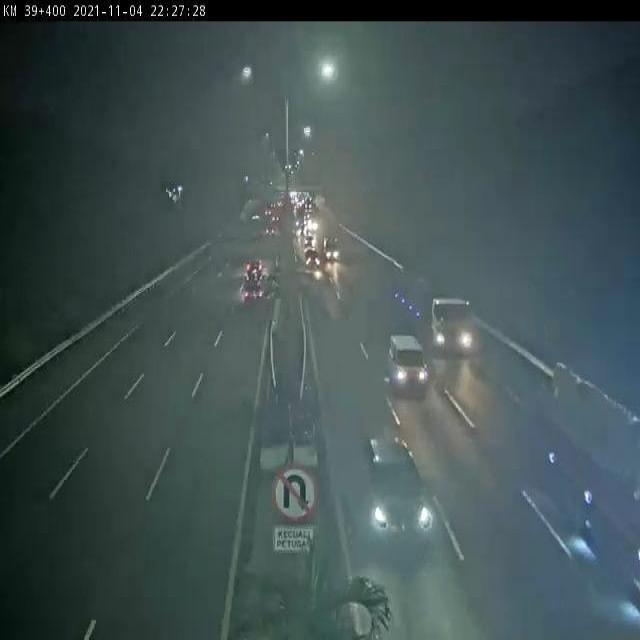car: (360, 436, 435, 540), (387, 333, 430, 391), (244, 279, 264, 304), (246, 255, 264, 281), (304, 249, 321, 268)
truck-s-: (322, 235, 341, 262)
truck-xl-: (389, 267, 471, 352)
